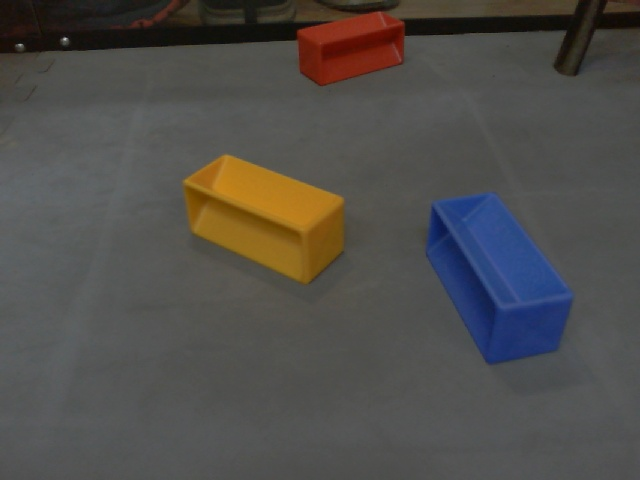BlueSample: (422, 190, 575, 365)
RedSample: (298, 11, 407, 87)
YellowSample: (181, 152, 349, 287)
